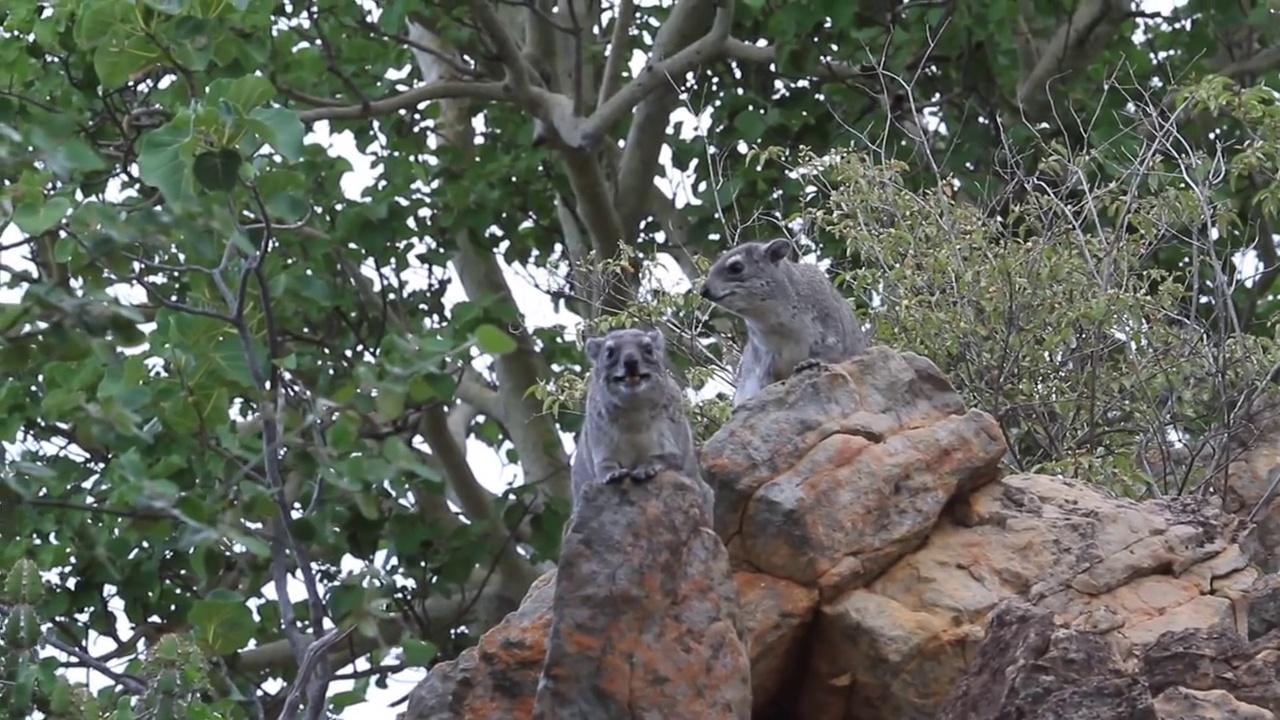Rock Hyrex: (695, 238, 867, 414), (568, 327, 706, 520)
